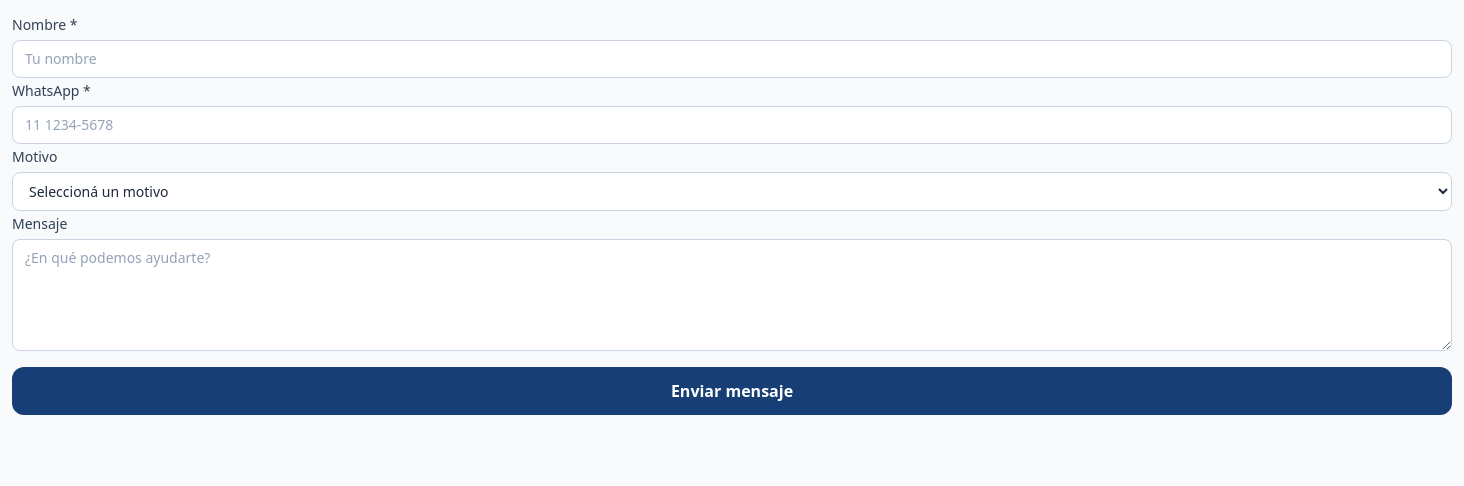
Test: ContactoForm › muestra error cuando la API falla
The image size is (1464, 486).
Type "Maria Gomez" into the field labelled "Nombre *". click: coordinates (732, 59)
box: [12, 40, 1452, 78]
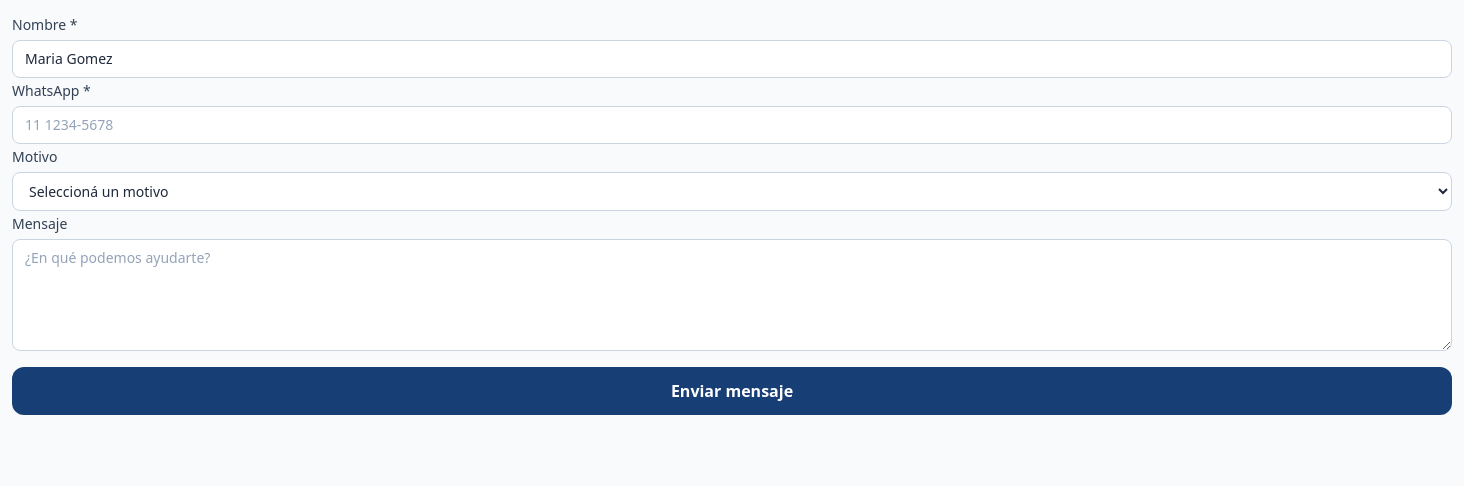
Type "11 2222-3333" into the field labelled "WhatsApp *". click: coordinates (732, 125)
box: [12, 106, 1452, 144]
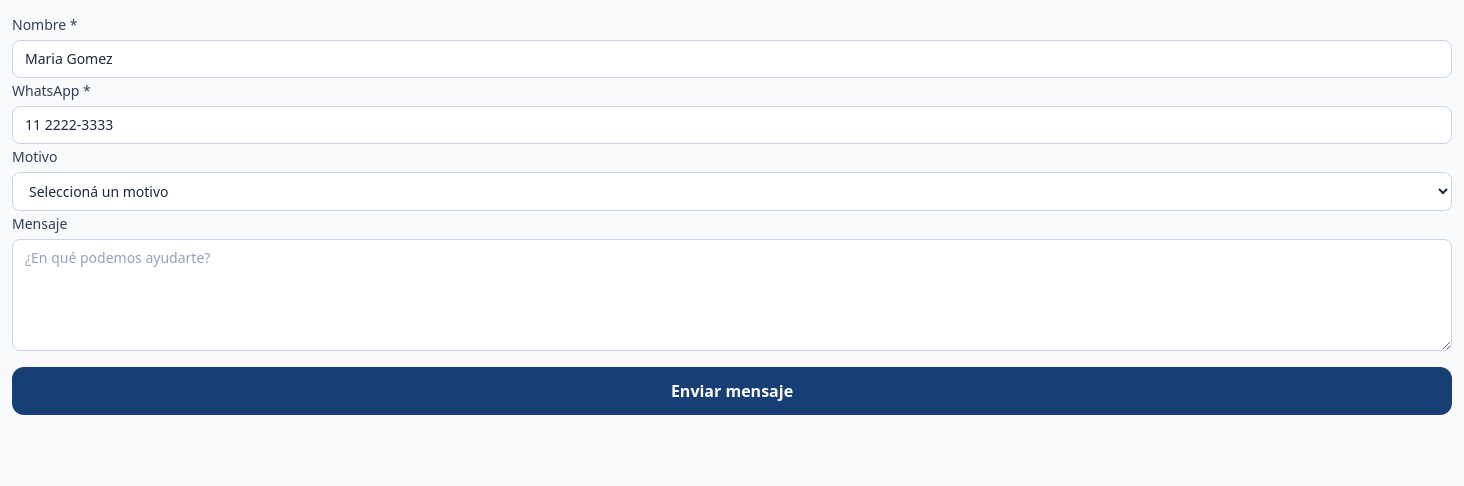
Click the button "Enviar mensaje". click: coordinates (732, 391)
box: [12, 367, 1452, 415]
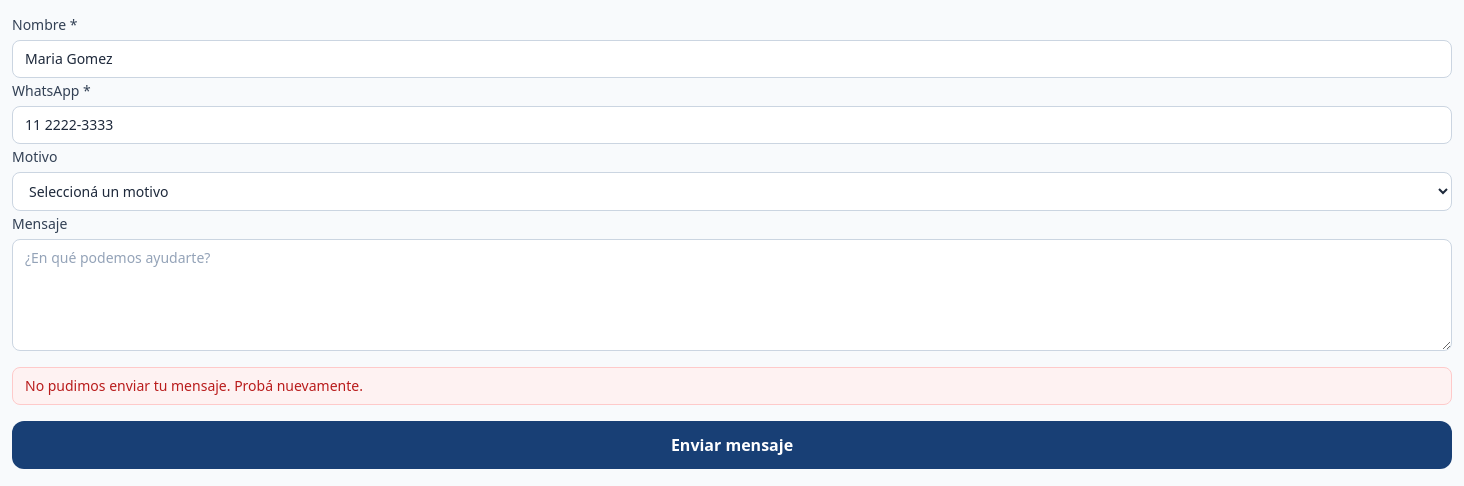
Result: the text "No pudimos enviar tu mensaje. Probá nuevamente." is shown at [12, 367, 1452, 405]
